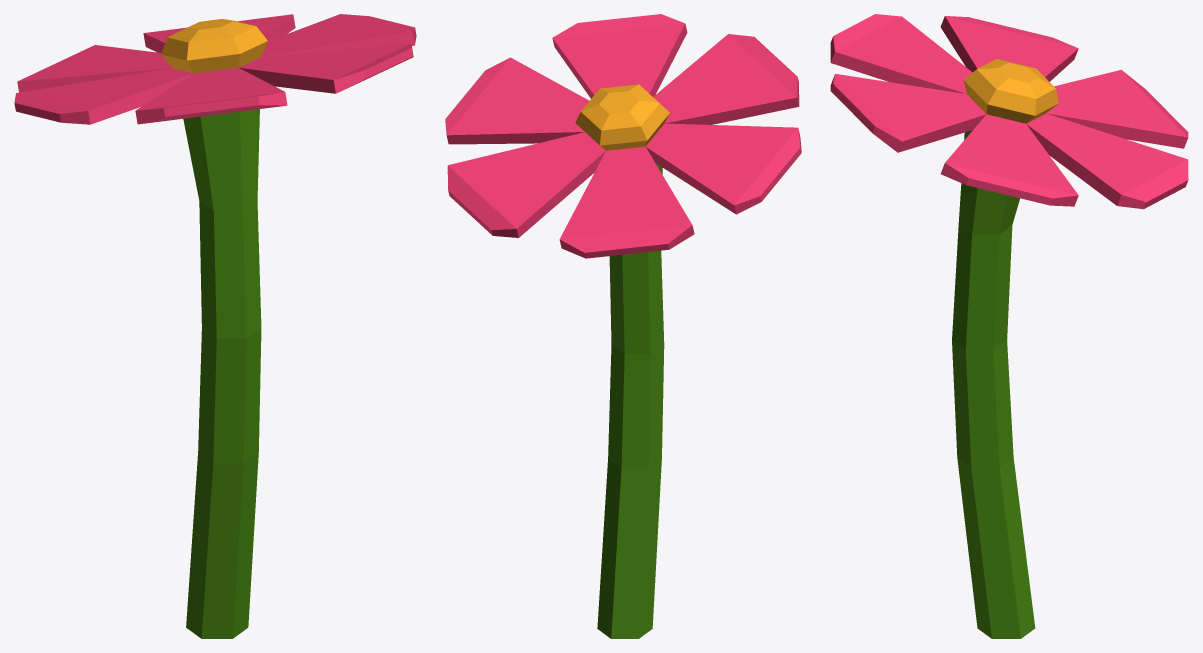
Rendered from SM_Flower2.fbx.
The picture shows the model from 3 angles, left to right: view 1: azimuth 30°, elevation 25°; view 2: azimuth 150°, elevation 25°; view 3: azimuth 270°, elevation 25°; orthographic projection. The views are drawn at different scales.
Parts seen in each view (by area): view 1: SM_Flower2; view 2: SM_Flower2; view 3: SM_Flower2.
Boxes of the visible parts, x1,y1,x2,y2 form: SM_Flower2: [14, 14, 416, 638]; SM_Flower2: [445, 14, 801, 638]; SM_Flower2: [830, 14, 1188, 638].
Bounding box in the file's own units: 41.25 × 67.91 × 38.76.
